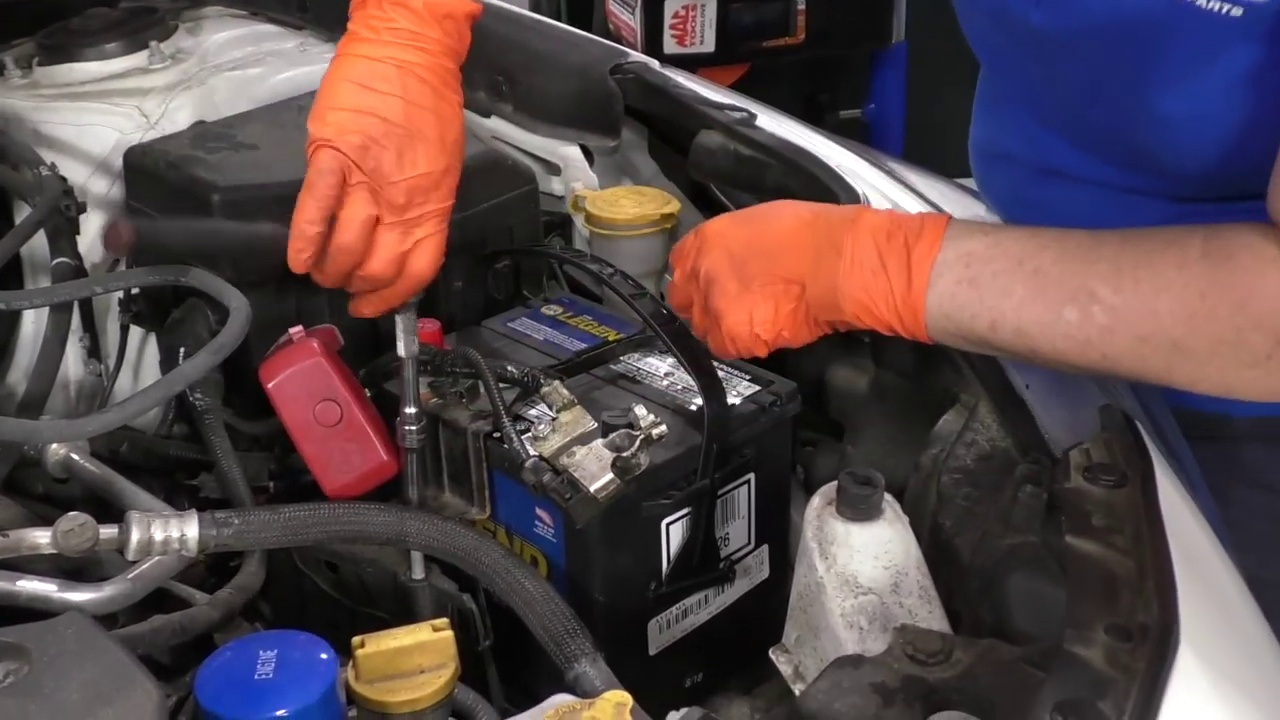battery: (372, 284, 793, 502)
